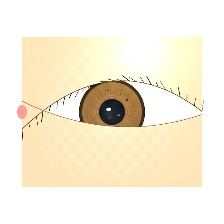pinguecula_lesion: (17, 92, 64, 130)
